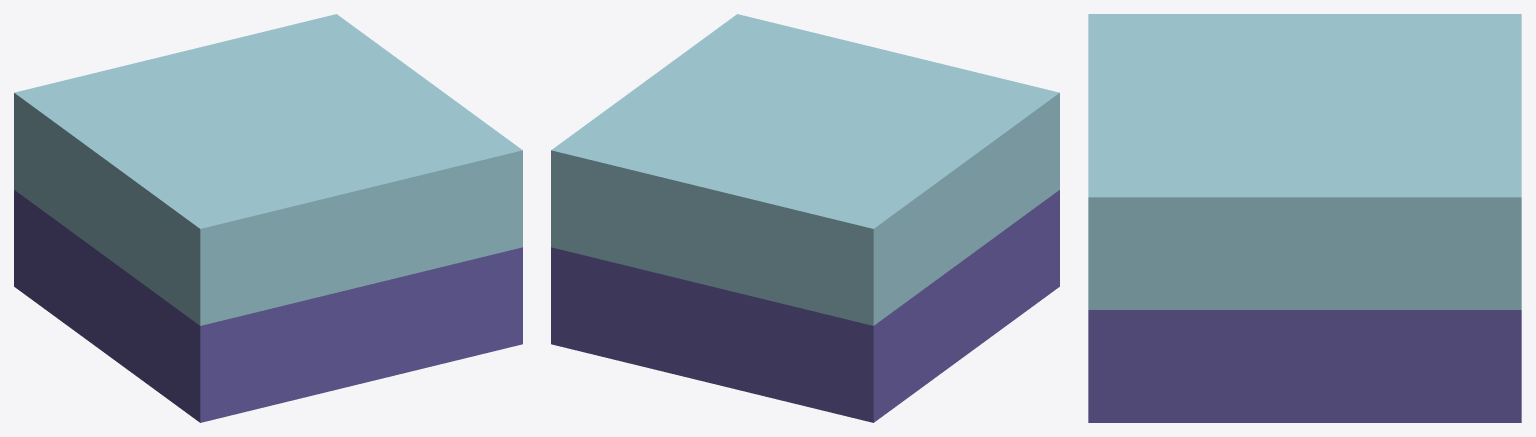
The model's file is towerSquare_middleA.dae.
The picture shows the model from 3 angles, left to right: view 1: azimuth 30°, elevation 25°; view 2: azimuth 150°, elevation 25°; view 3: azimuth 270°, elevation 25°; orthographic projection. The views are drawn at different scales.
Visible parts, largest first — view 1: towerSquare_middleA; view 2: towerSquare_middleA; view 3: towerSquare_middleA.
Part boxes in pixels (x1,y1,x2,y2): towerSquare_middleA: (14, 14, 522, 422); towerSquare_middleA: (551, 14, 1059, 422); towerSquare_middleA: (1088, 14, 1521, 422).
Size of the model in its own units: 0.87 by 0.5 by 0.87.
